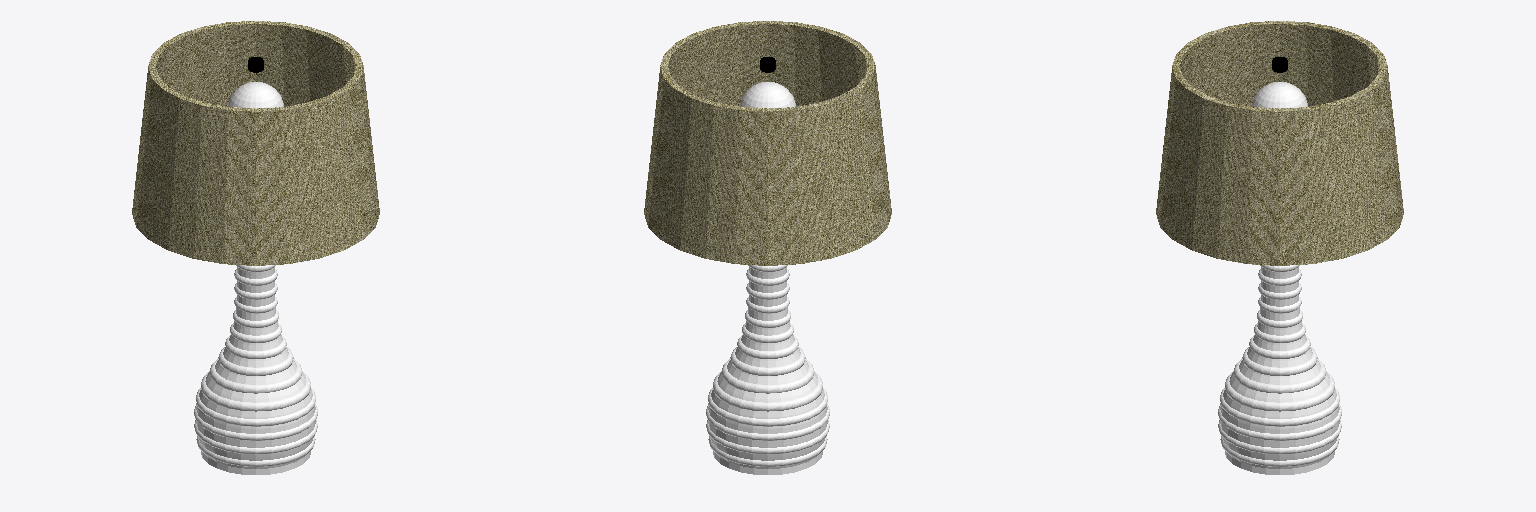
3 views of the same model, side by side, from view 1: azimuth 30°, elevation 25°; view 2: azimuth 150°, elevation 25°; view 3: azimuth 270°, elevation 25° (orthographic).
Visible parts, largest first — view 1: Mesh3 G_21in_Zip_C_Lamp1 G_21in_ZipC_Lamp_WF1 Model, Mesh1 G_21in_Zip_C_Lamp1 G_21in_ZipC_Lamp_WF1 Model, Mesh2 G_21in_Zip_C_Lamp1 G_21in_ZipC_Lamp_WF1 Model; view 2: Mesh3 G_21in_Zip_C_Lamp1 G_21in_ZipC_Lamp_WF1 Model, Mesh1 G_21in_Zip_C_Lamp1 G_21in_ZipC_Lamp_WF1 Model, Mesh2 G_21in_Zip_C_Lamp1 G_21in_ZipC_Lamp_WF1 Model; view 3: Mesh3 G_21in_Zip_C_Lamp1 G_21in_ZipC_Lamp_WF1 Model, Mesh1 G_21in_Zip_C_Lamp1 G_21in_ZipC_Lamp_WF1 Model, Mesh2 G_21in_Zip_C_Lamp1 G_21in_ZipC_Lamp_WF1 Model.
Part boxes in pixels (x1,y1,x2,y2): Mesh3 G_21in_Zip_C_Lamp1 G_21in_ZipC_Lamp_WF1 Model: (132, 21, 379, 265); Mesh1 G_21in_Zip_C_Lamp1 G_21in_ZipC_Lamp_WF1 Model: (194, 265, 317, 474); Mesh2 G_21in_Zip_C_Lamp1 G_21in_ZipC_Lamp_WF1 Model: (228, 82, 283, 108); Mesh3 G_21in_Zip_C_Lamp1 G_21in_ZipC_Lamp_WF1 Model: (644, 21, 891, 265); Mesh1 G_21in_Zip_C_Lamp1 G_21in_ZipC_Lamp_WF1 Model: (706, 265, 829, 474); Mesh2 G_21in_Zip_C_Lamp1 G_21in_ZipC_Lamp_WF1 Model: (740, 82, 795, 108); Mesh3 G_21in_Zip_C_Lamp1 G_21in_ZipC_Lamp_WF1 Model: (1156, 21, 1403, 265); Mesh1 G_21in_Zip_C_Lamp1 G_21in_ZipC_Lamp_WF1 Model: (1218, 265, 1341, 474); Mesh2 G_21in_Zip_C_Lamp1 G_21in_ZipC_Lamp_WF1 Model: (1252, 82, 1307, 108).
Size of the model in its own units: 0.3109 by 0.5421 by 0.3109.
Materials: 5 (1 with a texture image).